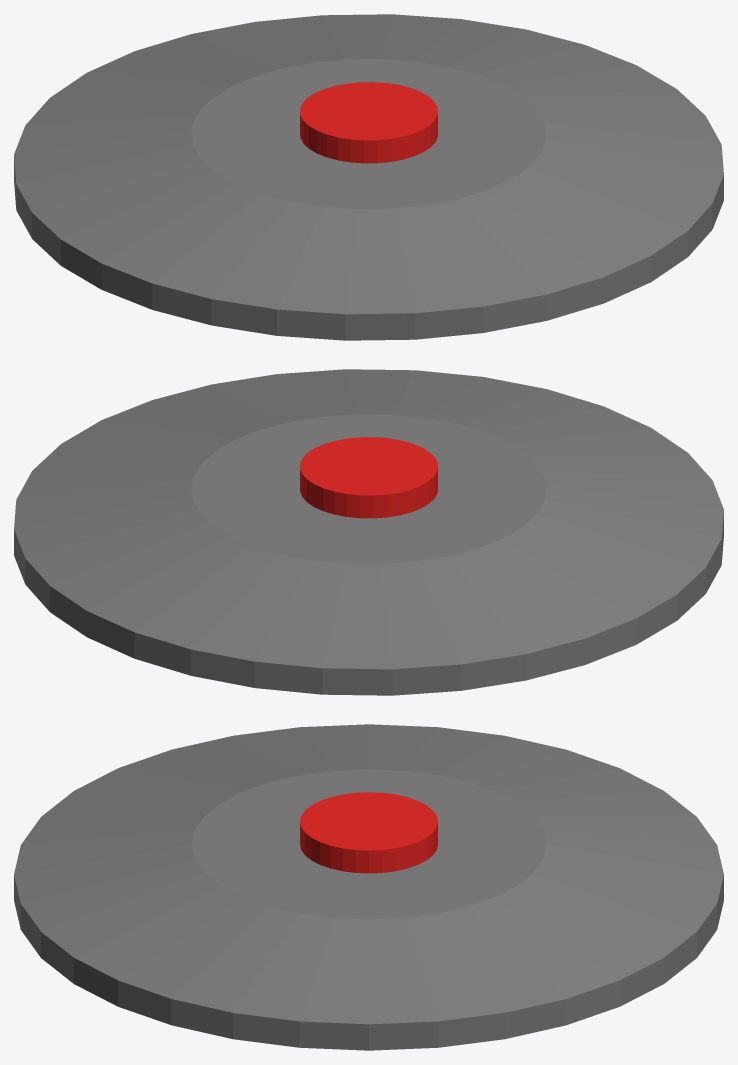
The model's file is ExplosiveTrap.fbx.
The picture shows the model from 3 angles, top to bottom: view 1: azimuth 30°, elevation 25°; view 2: azimuth 150°, elevation 25°; view 3: azimuth 270°, elevation 25°; orthographic projection.
Parts seen in each view (by area): view 1: Cone; view 2: Cone; view 3: Cone.
Part boxes in pixels (box(x1,y1,x2,y2)): Cone: box(14, 14, 723, 340); Cone: box(14, 369, 723, 695); Cone: box(14, 724, 723, 1050).
Bounding box in the file's own units: 67.17 × 8.27 × 67.17.
